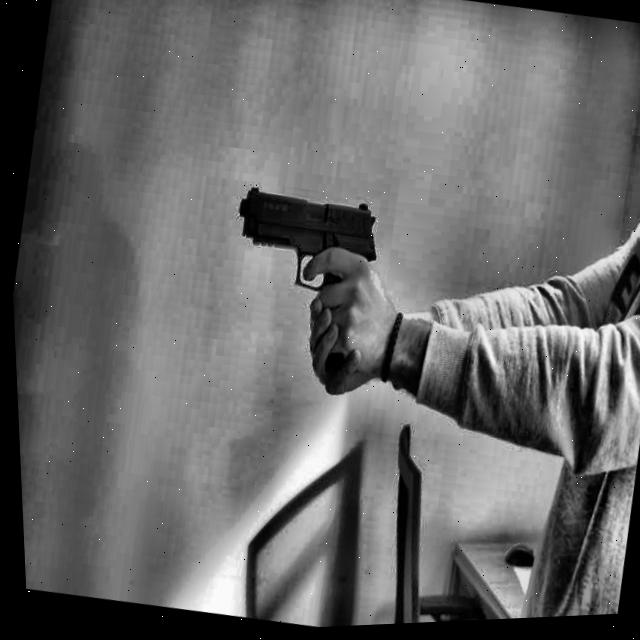pistol: (220, 156, 389, 407)
